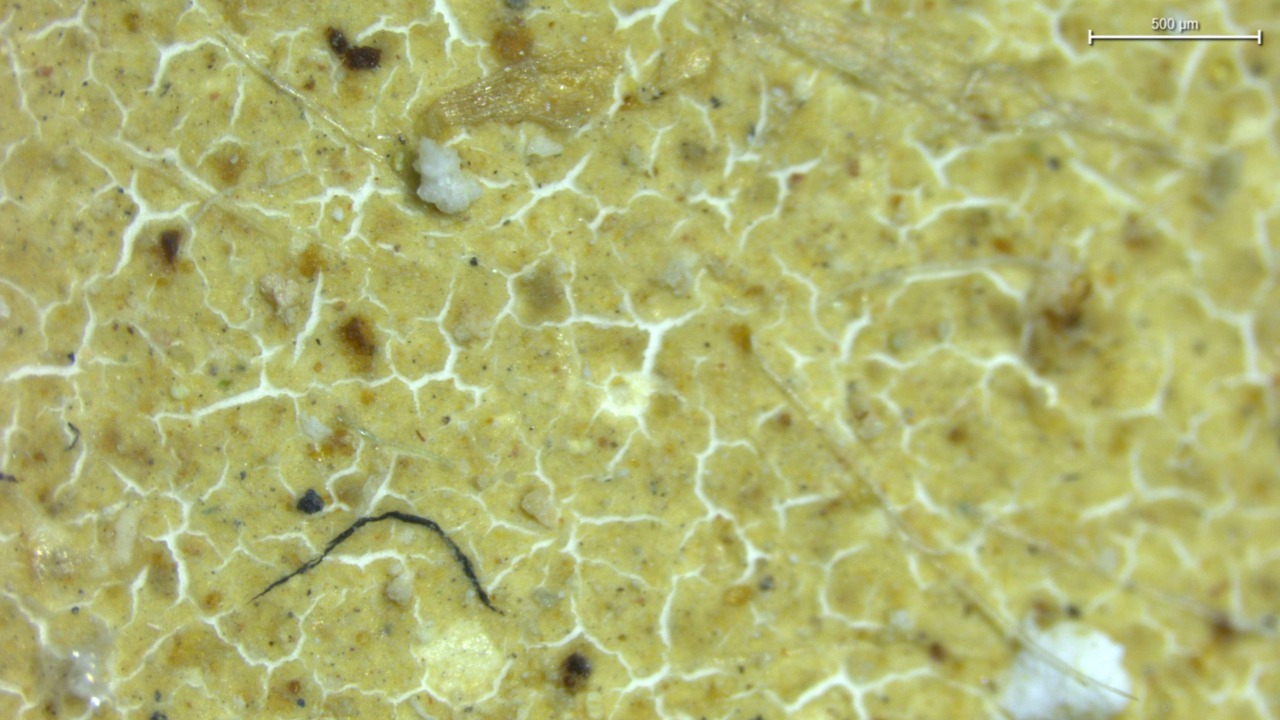microplastic_fragment: (414, 137, 482, 213), (520, 484, 561, 527)
